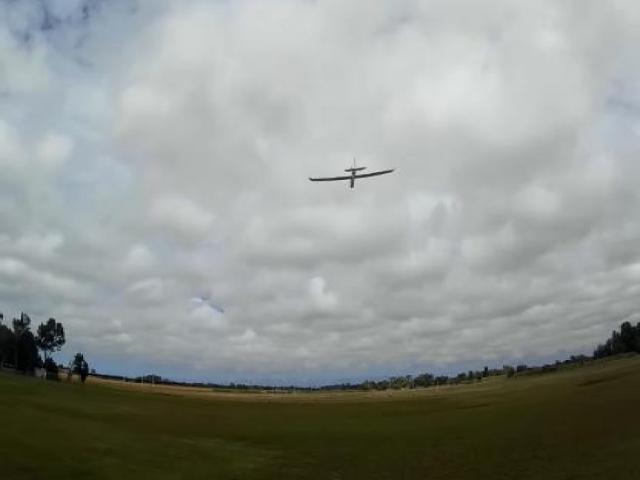uav: (305, 153, 397, 201)
